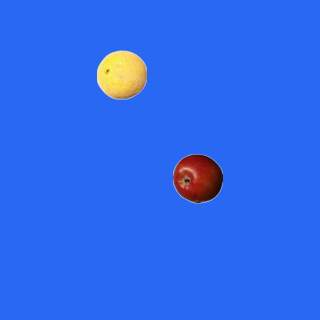Apple Braeburn: (172, 153, 222, 203)
Cantaloupe 1: (96, 49, 146, 99)
